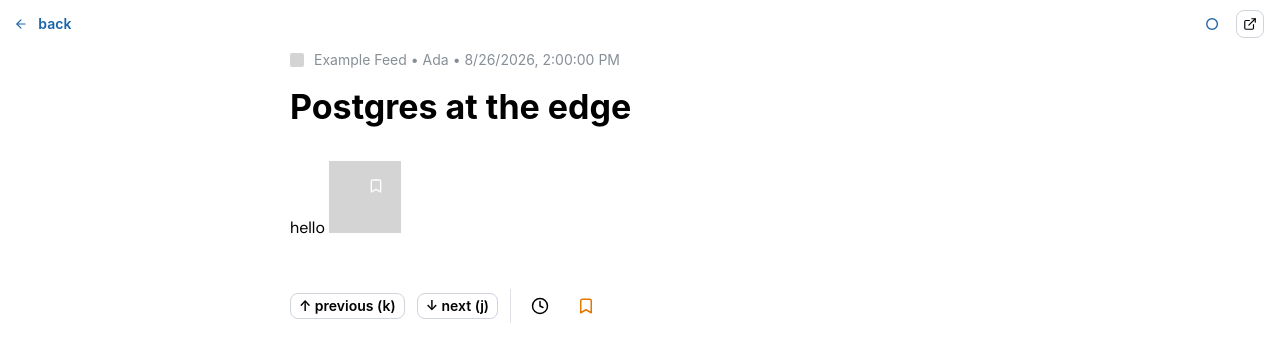
Scenario: reader image saving › saves the selected image without starring the article
Click the button named "save image" at (376, 186), box [359, 169, 393, 203]
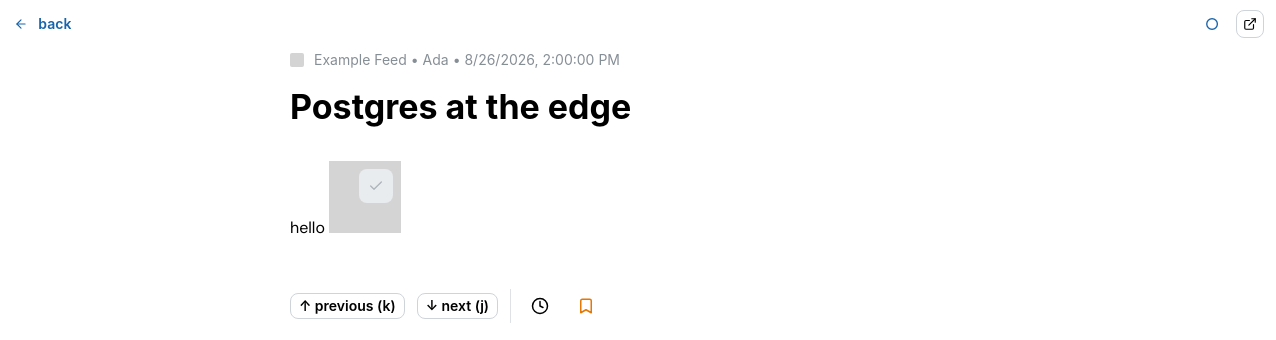
Result: the button named "image saved" is disabled at [359, 169, 393, 203]
